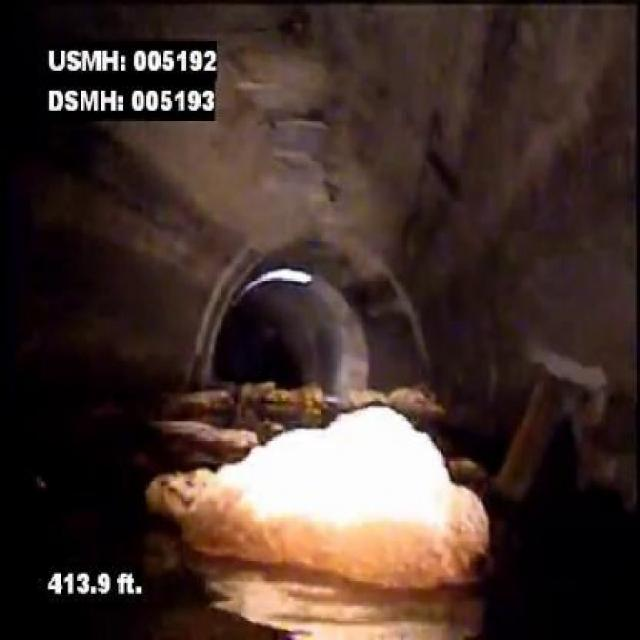Crack: (234, 52, 340, 202)
Debris: (140, 397, 502, 586)
